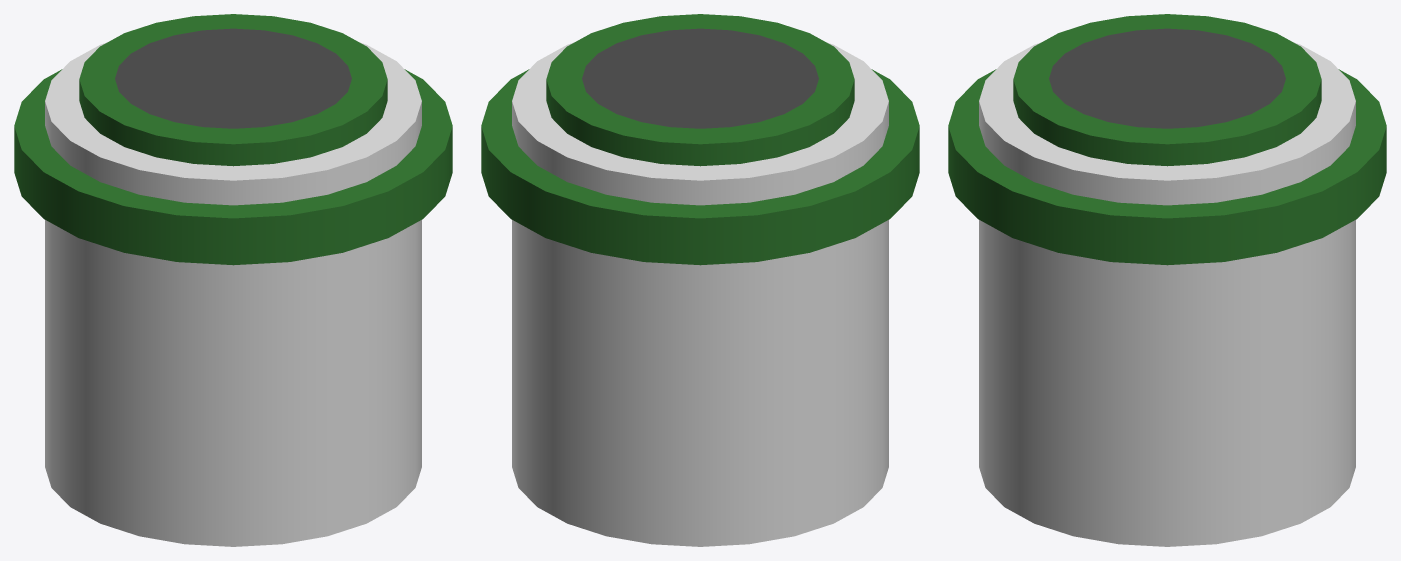
Rendered from Button F.fbx.
3 views of the same model, side by side, from view 1: azimuth 30°, elevation 25°; view 2: azimuth 150°, elevation 25°; view 3: azimuth 270°, elevation 25° (orthographic).
Parts seen in each view (by area): view 1: Button F, Button F.001, Button F.002; view 2: Button F, Button F.001, Button F.002; view 3: Button F, Button F.001, Button F.002.
Part boxes in pixels (box(x1,y1,x2,y2)): Button F: box(45, 42, 421, 546); Button F.001: box(79, 14, 387, 166); Button F.002: box(14, 69, 452, 265); Button F: box(512, 42, 888, 546); Button F.001: box(546, 14, 854, 166); Button F.002: box(481, 69, 919, 265); Button F: box(979, 42, 1355, 546); Button F.001: box(1013, 14, 1321, 166); Button F.002: box(948, 69, 1386, 265).
Bounding box in the file's own units: 153 × 150 × 153.
